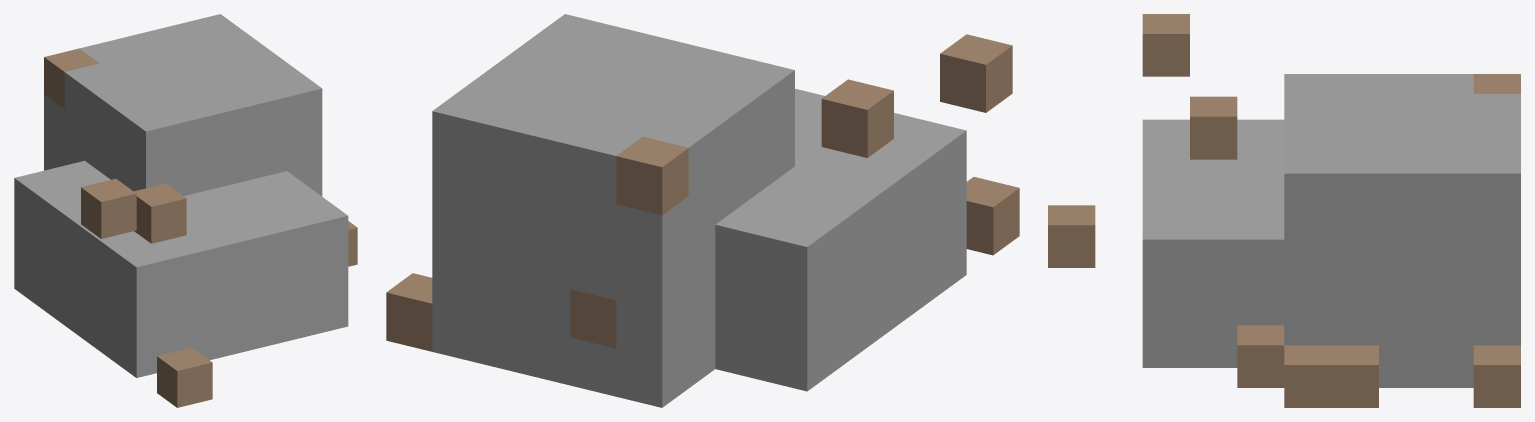
File: veta_hierro_01.glb
3 views of the same model, side by side, from view 1: azimuth 30°, elevation 25°; view 2: azimuth 150°, elevation 25°; view 3: azimuth 270°, elevation 25° (orthographic). The views are drawn at different scales.
Visible parts, largest first — view 1: veta_hierro_01; view 2: veta_hierro_01; view 3: veta_hierro_01.
Boxes of the visible parts, box(x1,y1,x2,y2) form: veta_hierro_01: box(14, 14, 357, 407); veta_hierro_01: box(386, 14, 1019, 407); veta_hierro_01: box(1048, 14, 1520, 407).
Size of the model in its own units: 0.9 by 0.5 by 1.
